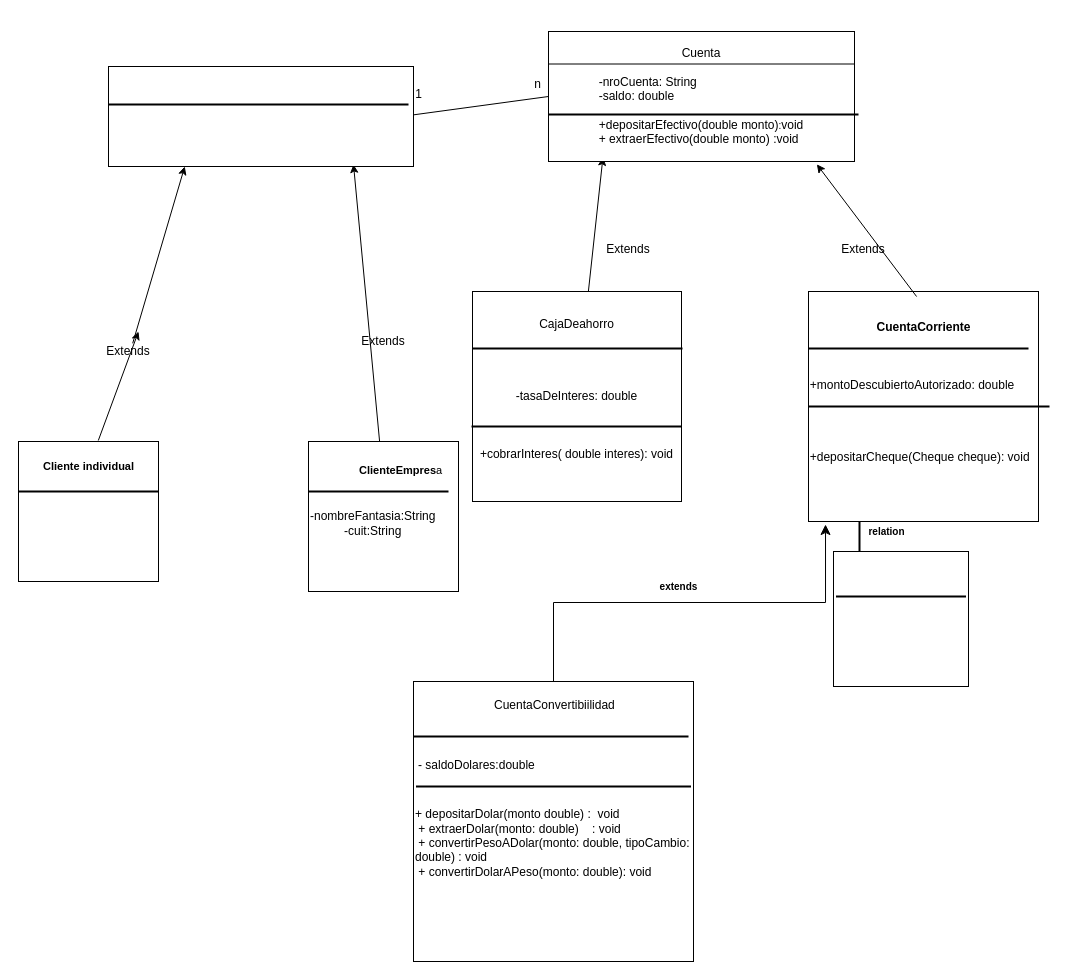
The diagram is 1067 pixels wide and 979 high, and some of its shapes have lost their labels. The shapes that lost their labels are listed below. From the top down, each one's box as (x1, y1, x2, y2) in pixels, then its label:
(108, 66, 414, 166): Cliente -numCliente: String
(18, 440, 158, 582): -nombre: String -apellido :String -dni :String
(832, 550, 968, 686): Cheque -nroCheque:int -bancoEmisor: String -fechaCobro:String -monto:double
